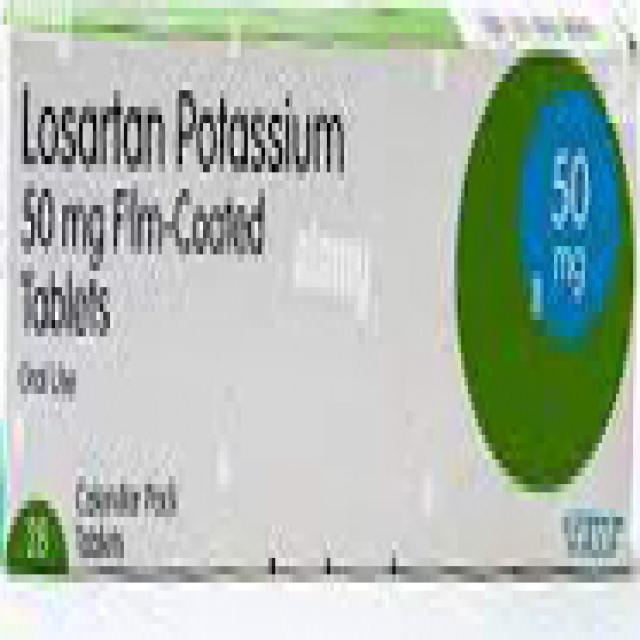drug-name: (21, 70, 349, 192)
